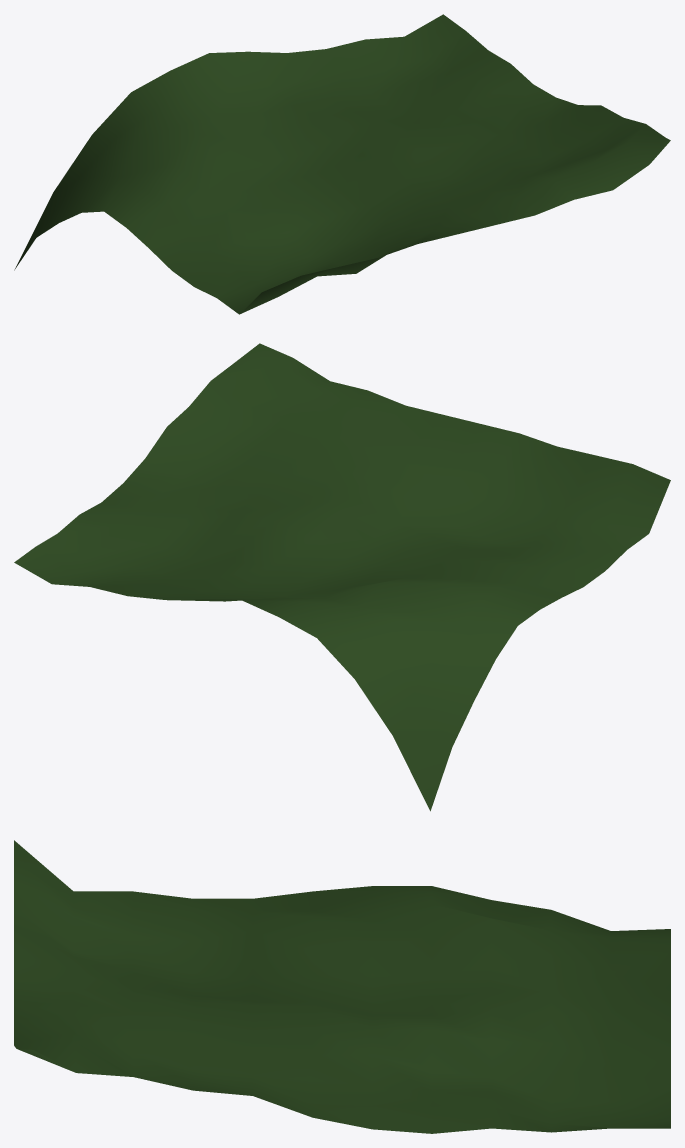
3 views of the same model, one above another, from view 1: azimuth 30°, elevation 25°; view 2: azimuth 150°, elevation 25°; view 3: azimuth 270°, elevation 25° (orthographic). The views are drawn at different scales.
Visible parts, largest first — view 1: TerrainModel.029; view 2: TerrainModel.029; view 3: TerrainModel.029.
Boxes of the visible parts, bbox=[...] form: TerrainModel.029: bbox=[14, 14, 670, 314]; TerrainModel.029: bbox=[14, 343, 670, 811]; TerrainModel.029: bbox=[14, 840, 670, 1133].
Size of the model in its own units: 21569 by 9843 by 21569.
